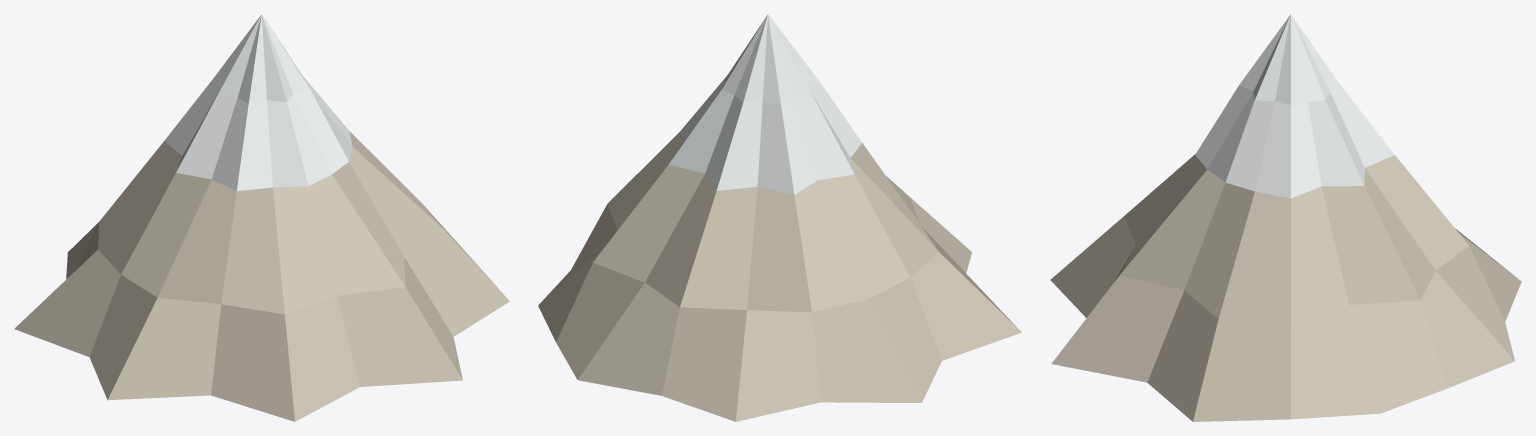
Rendered from everest.glb.
3 views of the same model, side by side, from view 1: azimuth 30°, elevation 25°; view 2: azimuth 150°, elevation 25°; view 3: azimuth 270°, elevation 25° (orthographic). The views are drawn at different scales.
Visible parts, largest first — view 1: everest; view 2: everest; view 3: everest.
Boxes of the visible parts, <box> form: everest: <box>14,14,509,421</box>; everest: <box>538,14,1021,421</box>; everest: <box>1050,14,1521,421</box>.
Size of the model in its own units: 12389 by 8849 by 12276.
